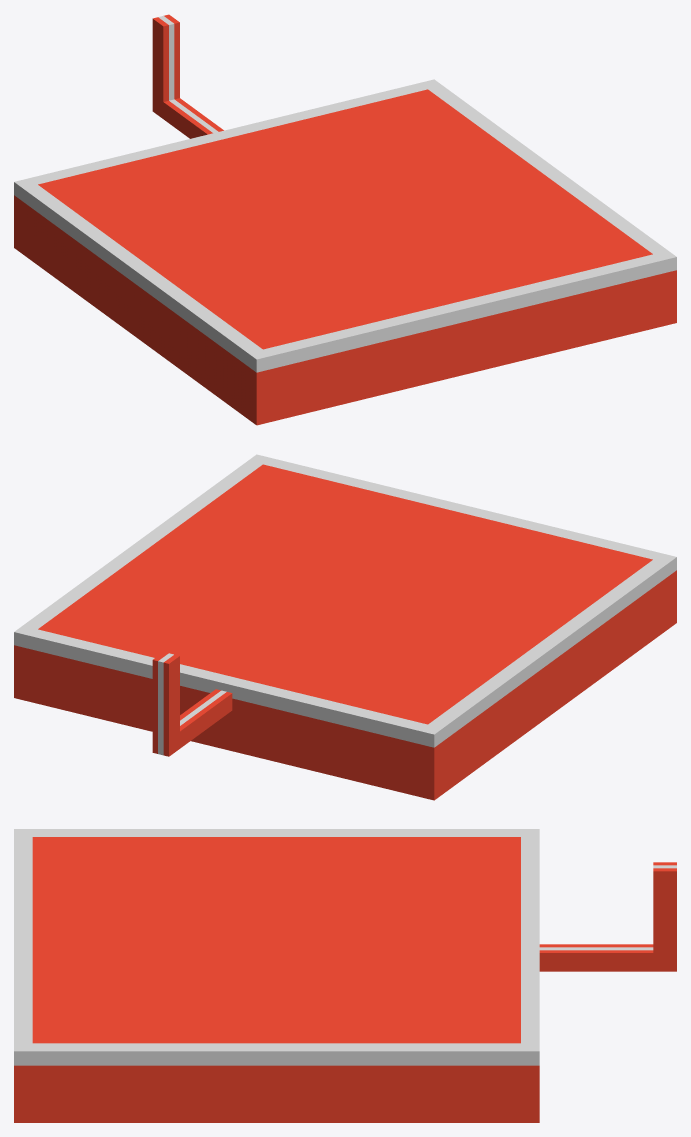
File: PuzzleSlab.fbx
3 views of the same model, one above another, from view 1: azimuth 30°, elevation 25°; view 2: azimuth 150°, elevation 25°; view 3: azimuth 270°, elevation 25° (orthographic). The views are drawn at different scales.
Parts seen in each view (by area): view 1: PuzzleSlab; view 2: PuzzleSlab; view 3: PuzzleSlab.
Part boxes in pixels (x1=…): PuzzleSlab: x1=14, y1=14, x2=676, y2=425; PuzzleSlab: x1=14, y1=454, x2=676, y2=800; PuzzleSlab: x1=14, y1=829, x2=676, y2=1122.
Bounding box in the file's own units: 100 × 30.41 × 126.
